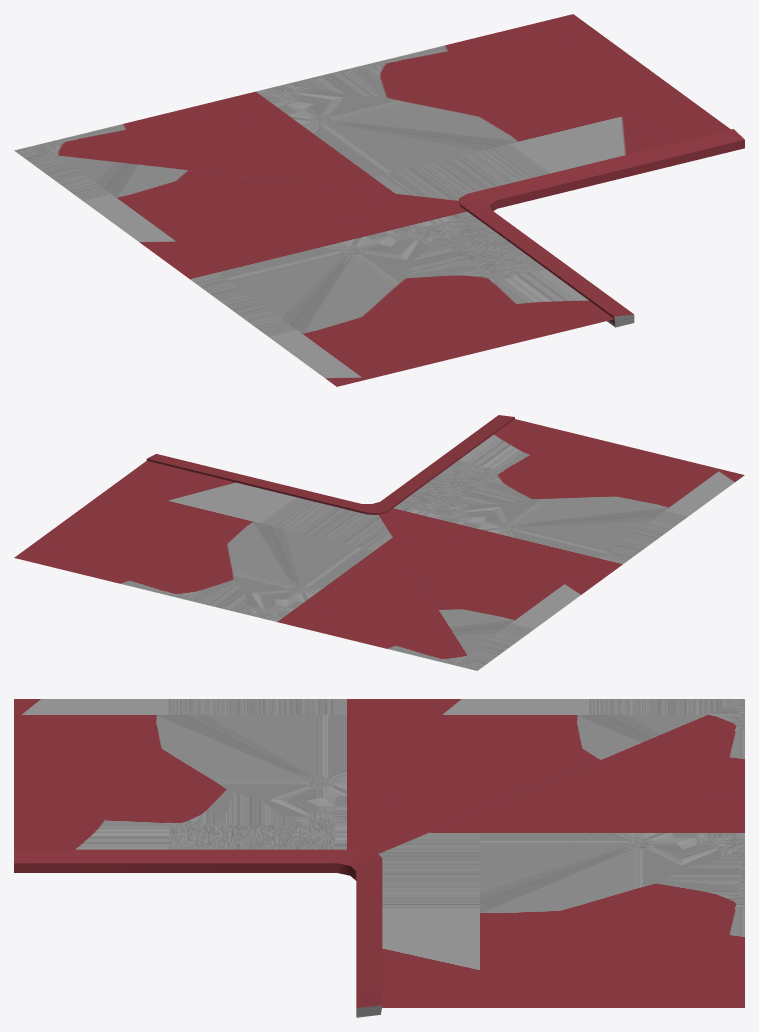
The model's file is BuildingBorderInsideCorner.fbx.
3 renders of one model, top to bottom at view 1: azimuth 30°, elevation 25°; view 2: azimuth 150°, elevation 25°; view 3: azimuth 270°, elevation 25°, orthographic. The views are drawn at different scales.
Parts seen in each view (by area): view 1: Box020; view 2: Box020; view 3: Box020.
Boxes of the visible parts, box(x1,y1,x2,y2) form: Box020: box(14, 14, 744, 386); Box020: box(14, 415, 744, 670); Box020: box(14, 699, 744, 1017).
Bounding box in the file's own units: 367 × 6.92 × 367.
